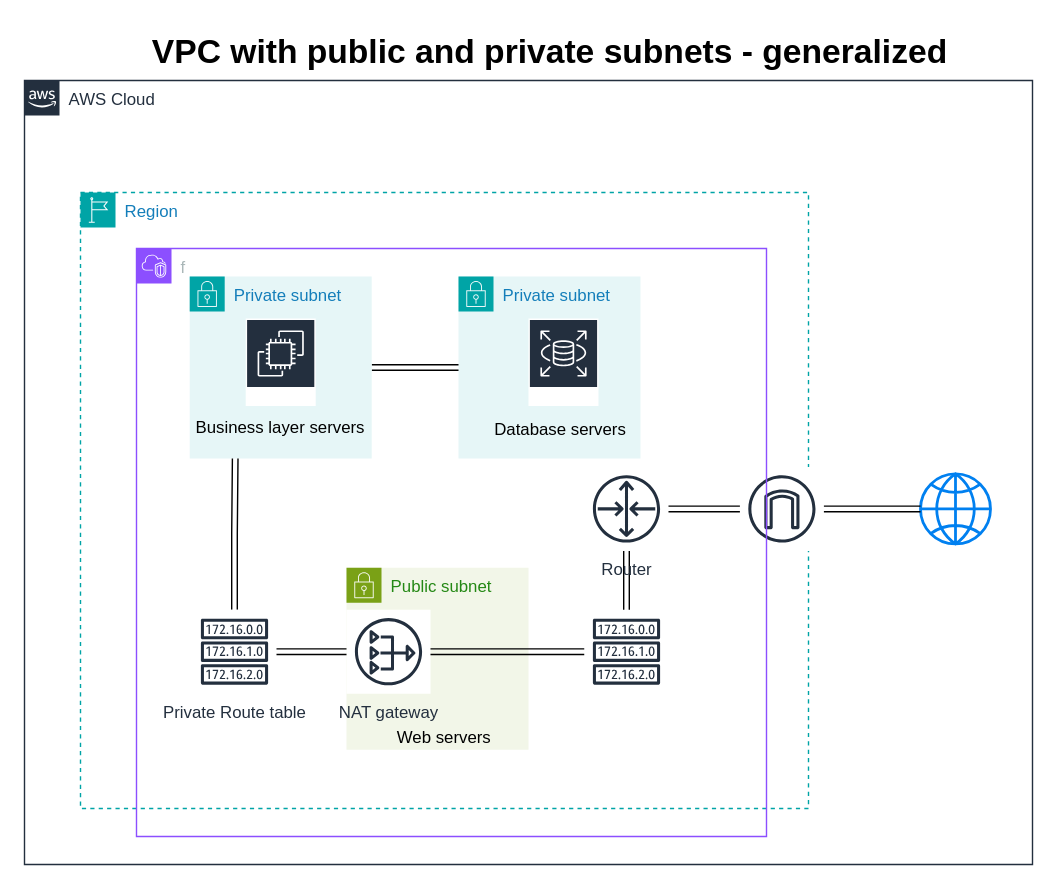
Image size: 1057x889. Some labels were removed from this diagram. The box of each missing label's shape, as (x1, y1, x2, y2) in pixels:
Amazon EC2: (244, 317, 316, 406)
Amazon RDS: (527, 317, 598, 406)
Internet gateway: (738, 465, 824, 551)
Public Route table: (583, 608, 668, 694)
